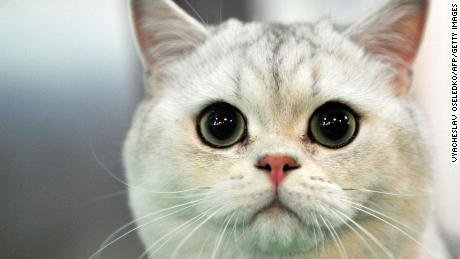cat: (121, 1, 436, 257)
